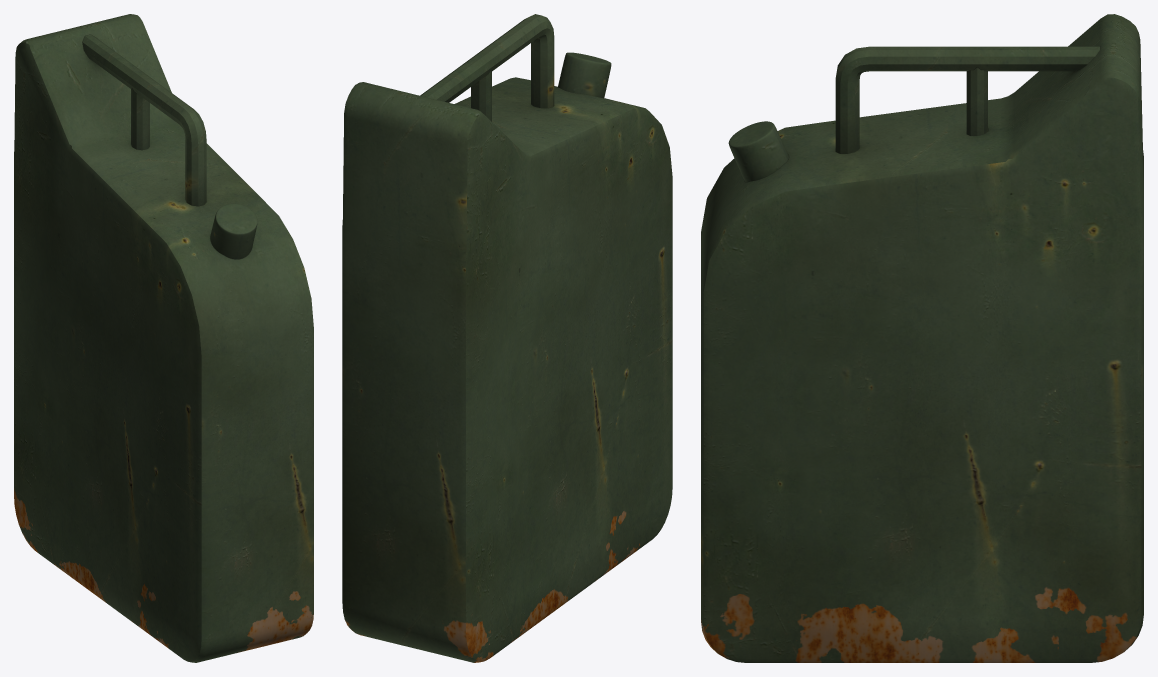
3 renders of one model, left to right at view 1: azimuth 30°, elevation 25°; view 2: azimuth 150°, elevation 25°; view 3: azimuth 270°, elevation 25°, orthographic. The views are drawn at different scales.
Visible parts, largest first — view 1: Canister_Low; view 2: Canister_Low; view 3: Canister_Low.
Boxes of the visible parts, bbox=[...] form: Canister_Low: bbox=[14, 14, 313, 662]; Canister_Low: bbox=[342, 14, 672, 662]; Canister_Low: bbox=[701, 14, 1143, 662].
Bounding box in the file's own units: 62.66 × 261 × 178.
